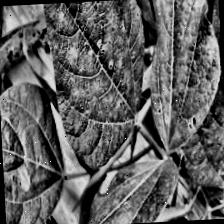Bean Rust: (38, 0, 151, 170), (149, 0, 224, 163), (0, 79, 71, 224)
